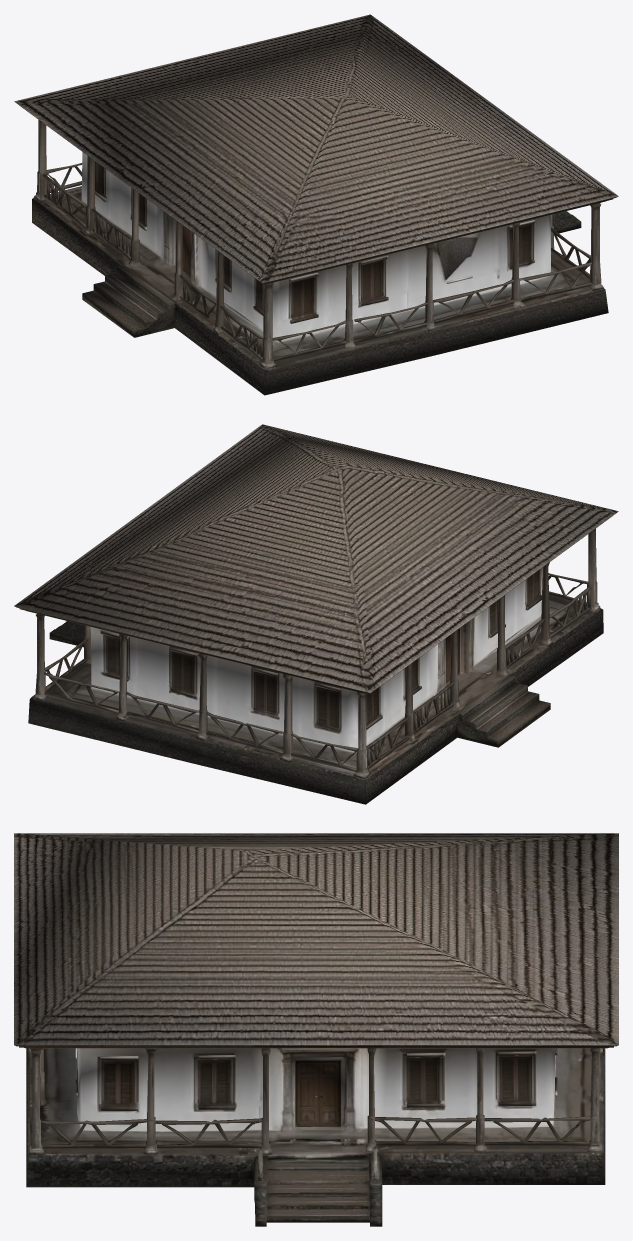
The model's file is governors-house.glb.
3 renders of one model, top to bottom at view 1: azimuth 30°, elevation 25°; view 2: azimuth 150°, elevation 25°; view 3: azimuth 270°, elevation 25°, orthographic. The views are drawn at different scales.
Parts seen in each view (by area): view 1: tripo_node_8b7b0795-ebed-4df0-a2a7-3038d9241083; view 2: tripo_node_8b7b0795-ebed-4df0-a2a7-3038d9241083; view 3: tripo_node_8b7b0795-ebed-4df0-a2a7-3038d9241083.
Part boxes in pixels (x1,y1,x2,y2): tripo_node_8b7b0795-ebed-4df0-a2a7-3038d9241083: [14, 14, 618, 395]; tripo_node_8b7b0795-ebed-4df0-a2a7-3038d9241083: [14, 424, 618, 804]; tripo_node_8b7b0795-ebed-4df0-a2a7-3038d9241083: [14, 833, 618, 1226].
Size of the model in its own units: 0.998 by 0.4082 by 0.959.
Materials: 1 (1 with a texture image).
